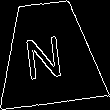N_N: (27, 26, 71, 81)
